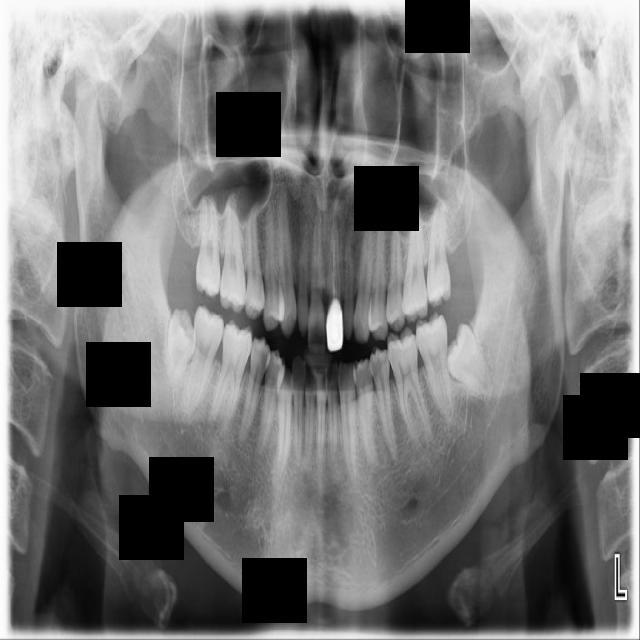52: (326, 298, 343, 353)
73: (328, 215, 342, 312), (591, 546, 599, 562)
BioHorizons Implant: (423, 200, 460, 309)
Biomet 3i Implant: (434, 318, 500, 412)
Blue Sky Bio Implant: (413, 310, 455, 425)
Caries: (195, 195, 222, 299)
Implant: (180, 305, 227, 420)
Keystone Dental Implant: (161, 303, 201, 390)
